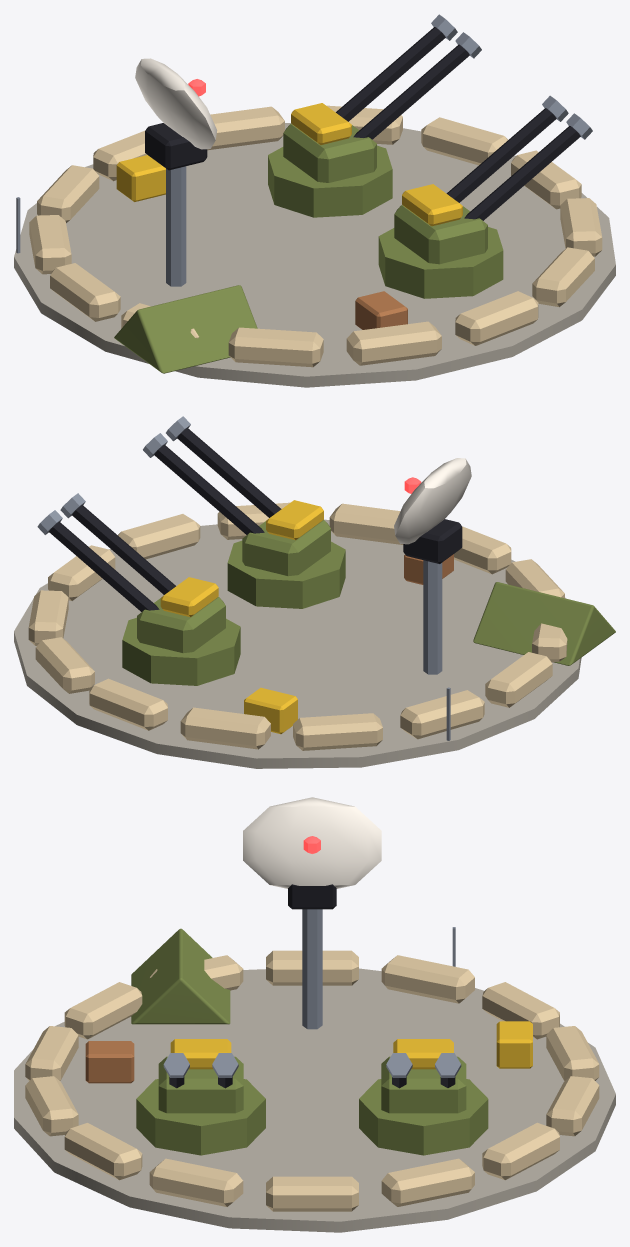
The model's file is aa_battery.glb.
3 renders of one model, top to bottom at view 1: azimuth 30°, elevation 25°; view 2: azimuth 150°, elevation 25°; view 3: azimuth 270°, elevation 25°, orthographic. The views are drawn at different scales.
Visible parts, largest first — view 1: aa_battery; view 2: aa_battery; view 3: aa_battery.
Boxes of the visible parts, x1=… form: aa_battery: x1=14, y1=14, x2=615, y2=387; aa_battery: x1=14, y1=416, x2=615, y2=768; aa_battery: x1=14, y1=797, x2=615, y2=1232.
Bounding box in the file's own units: 29.87 × 12.61 × 29.74.
1 material, 1 textured.
